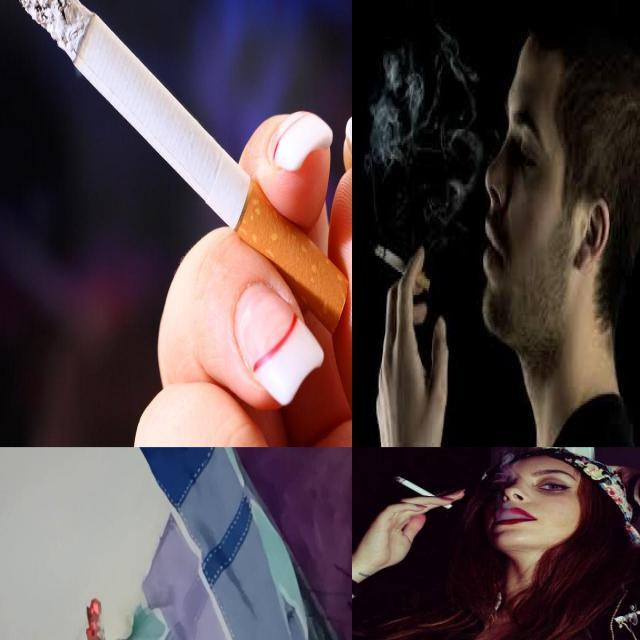cigarette: (15, 0, 351, 336), (376, 245, 430, 292), (388, 474, 452, 510), (86, 596, 122, 640)
